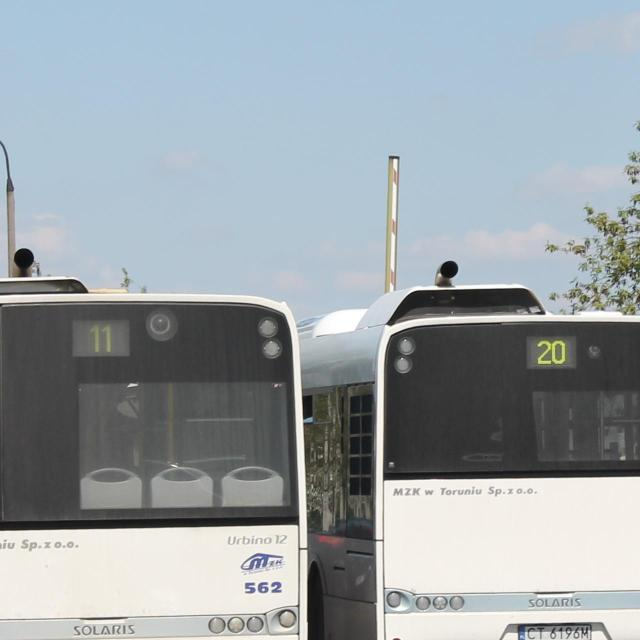Bus: (298, 286, 640, 640), (0, 278, 306, 640)
